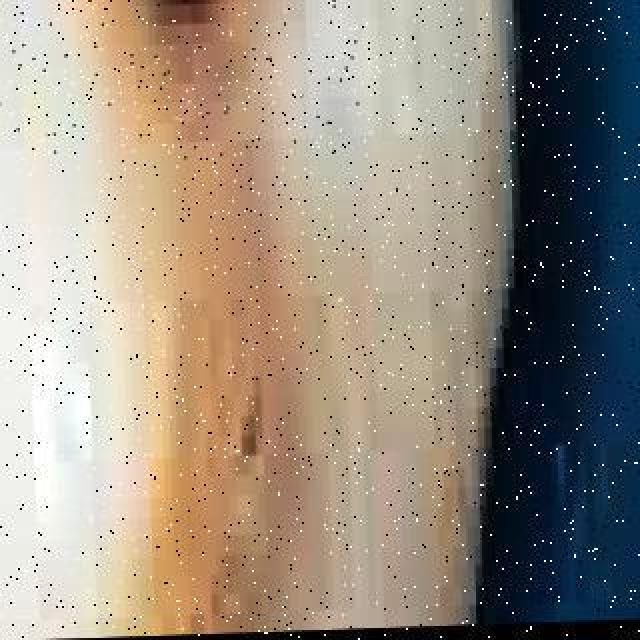cavities: (0, 0, 386, 144)
